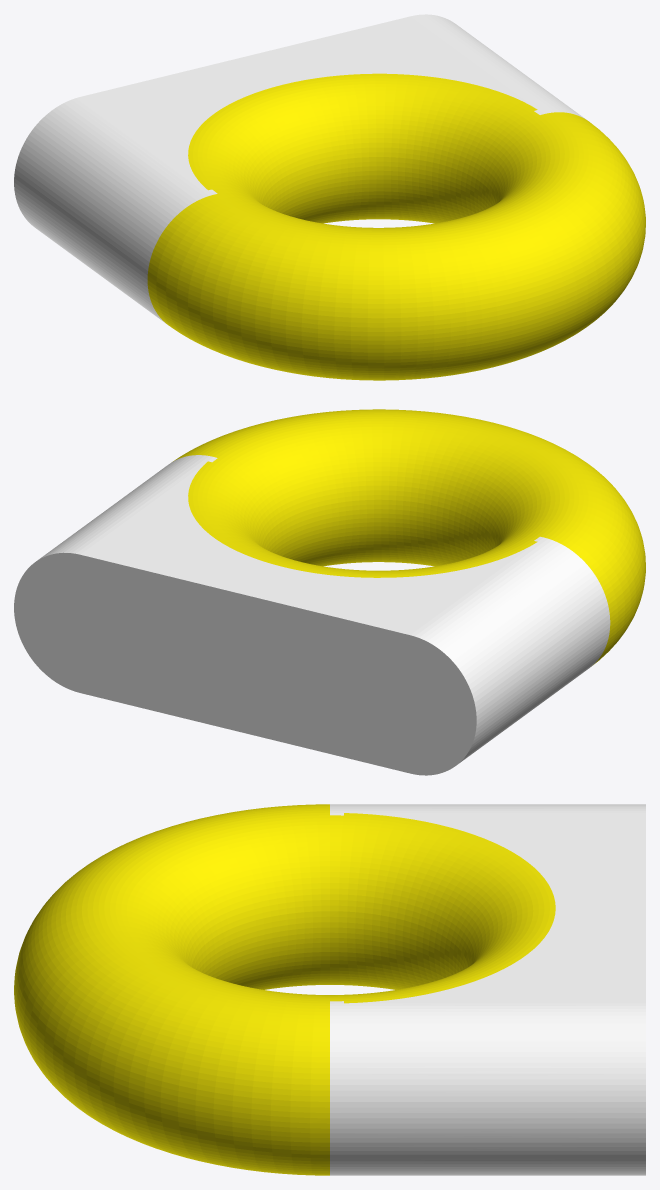
Rendered from torus_extruded.obj.
The picture shows the model from 3 angles, top to bottom: view 1: azimuth 30°, elevation 25°; view 2: azimuth 150°, elevation 25°; view 3: azimuth 270°, elevation 25°; orthographic projection. The views are drawn at different scales.
Visible parts, largest first — view 1: Object.1; view 2: Object.1; view 3: Object.1.
Part boxes in pixels (box(x1,y1,x2,y2)): Object.1: box(14, 14, 645, 380); Object.1: box(14, 409, 645, 775); Object.1: box(14, 804, 645, 1175).
Bounding box in the file's own units: 70 × 20 × 70.
